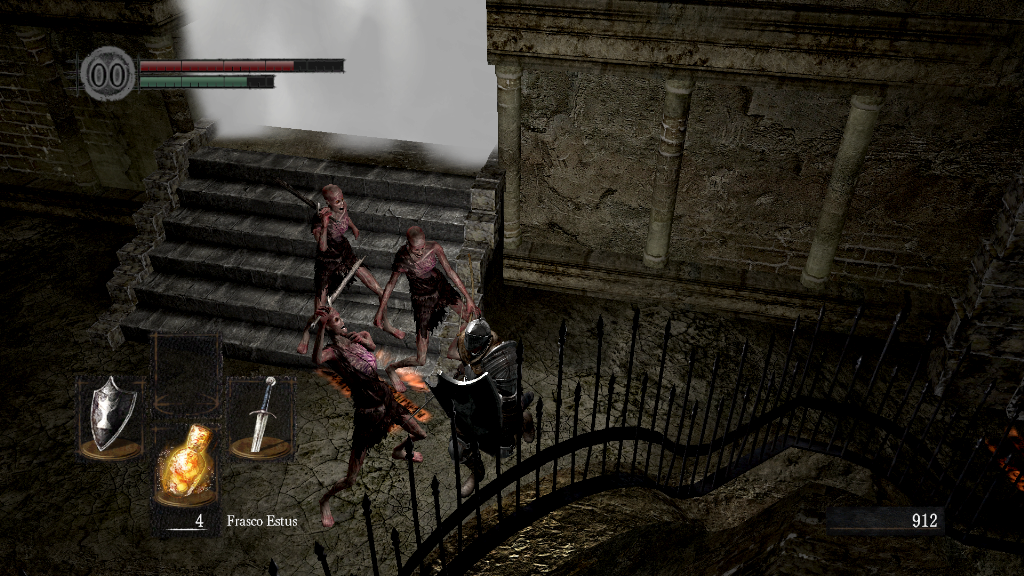health: (138, 58, 343, 71)
hollow: (316, 302, 430, 528), (376, 223, 497, 392), (294, 186, 404, 353)
humanity: (80, 45, 136, 102)
player: (425, 316, 541, 497)
souls: (825, 506, 945, 536)
stamina: (138, 74, 274, 88)
